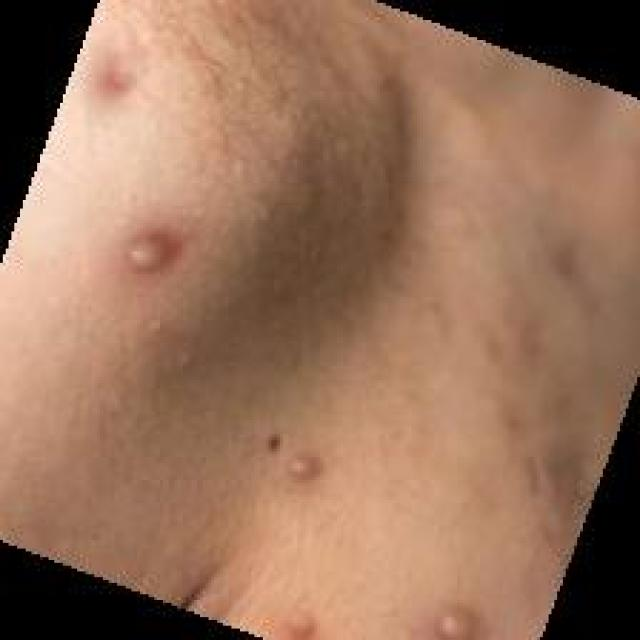monkeypox: (76, 16, 514, 640)
